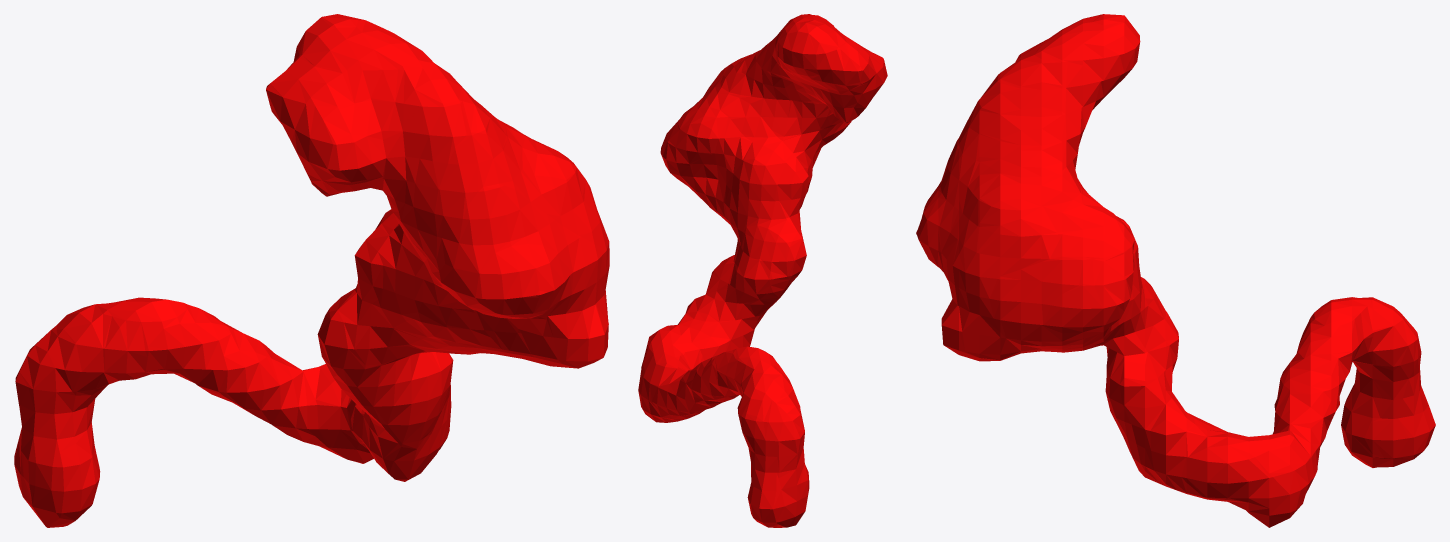
File: yhhM_coarse.dae
3 views of the same model, side by side, from view 1: azimuth 30°, elevation 25°; view 2: azimuth 150°, elevation 25°; view 3: azimuth 270°, elevation 25° (orthographic). The views are drawn at different scales.
Visible parts, largest first — view 1: yhhM; view 2: yhhM; view 3: yhhM.
Part boxes in pixels (<box>): yhhM: <box>14,14,609,527</box>; yhhM: <box>638,14,887,527</box>; yhhM: <box>916,14,1435,527</box>.
Size of the model in its own units: 52.16 by 78.08 by 73.41.
